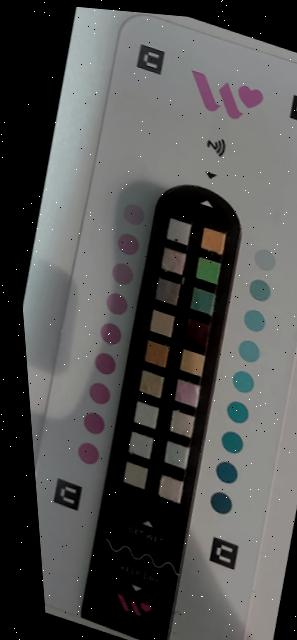black_strip: (43, 163, 279, 640)
circle: (114, 195, 150, 233), (108, 224, 144, 262), (104, 253, 140, 291), (81, 373, 117, 411), (230, 331, 266, 369), (219, 393, 255, 431), (208, 454, 244, 492), (202, 483, 238, 521), (99, 284, 134, 322), (92, 315, 127, 353), (87, 344, 122, 382), (75, 404, 110, 442), (70, 433, 105, 471), (246, 240, 281, 278), (236, 301, 271, 339), (242, 270, 277, 308), (225, 363, 260, 401), (214, 423, 249, 461)
markers: (104, 224, 192, 282), (110, 194, 197, 252), (98, 252, 185, 310), (176, 313, 265, 369), (75, 407, 160, 465), (88, 316, 174, 373), (69, 437, 152, 495), (94, 286, 178, 343), (188, 252, 275, 307), (183, 283, 271, 337), (167, 374, 255, 428), (156, 435, 244, 489), (195, 222, 281, 277), (81, 378, 163, 434), (152, 469, 236, 523), (173, 345, 258, 397), (88, 348, 168, 403), (163, 406, 248, 457)
shadow: (30, 182, 248, 640)
square: (159, 213, 196, 250), (154, 242, 191, 279), (148, 272, 185, 309), (137, 335, 174, 372), (127, 396, 164, 433), (122, 427, 159, 464), (183, 282, 220, 319), (172, 345, 209, 382), (143, 304, 179, 341), (132, 365, 168, 402), (117, 456, 153, 493), (194, 222, 230, 259), (189, 252, 225, 289), (178, 314, 214, 351), (168, 375, 204, 412), (164, 404, 200, 441), (158, 436, 194, 473), (152, 471, 188, 508)
triangle: (170, 58, 288, 185)
